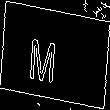M_N: (40, 27, 70, 83)
